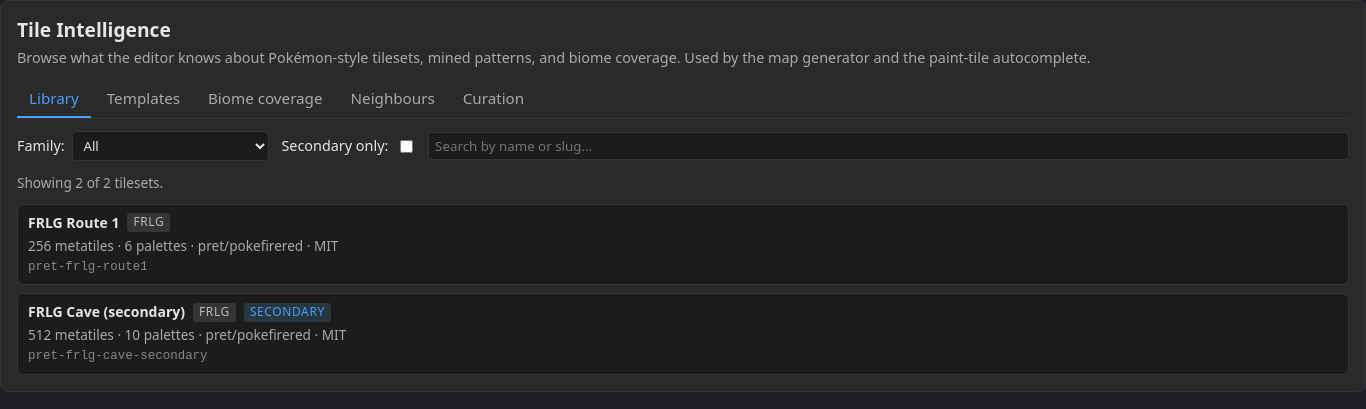
Test: TileIntelligencePanel › filters the visible library by search text
Expected: the text "FRLG Route 1" is shown, top-left (28, 213), bottom-right (119, 233)
Step 1. Type "cave" into the search field with placeholder "Search by name or slug…" → (889, 146), box top-left (428, 132), bottom-right (1349, 160)
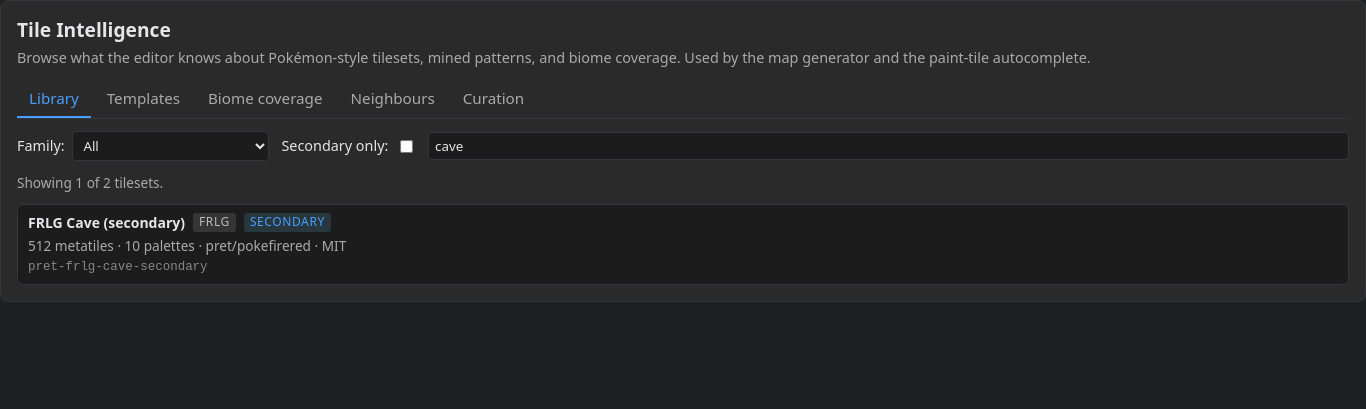
Expected: the text "FRLG Cave (secondary)" is shown, top-left (28, 213), bottom-right (185, 233)
Expected: the text "FRLG Route 1" is gone
